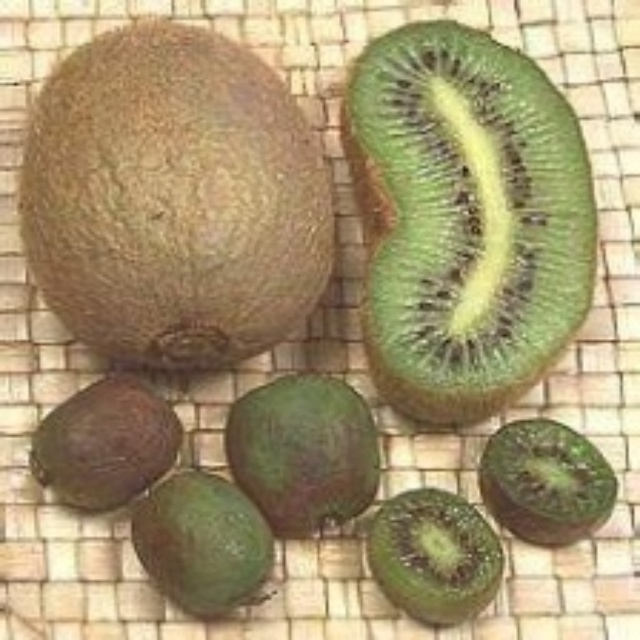kiwi: (352, 11, 599, 428), (26, 31, 317, 367), (126, 477, 296, 618), (231, 388, 384, 534), (468, 402, 620, 541), (364, 492, 515, 620), (33, 378, 176, 499)
